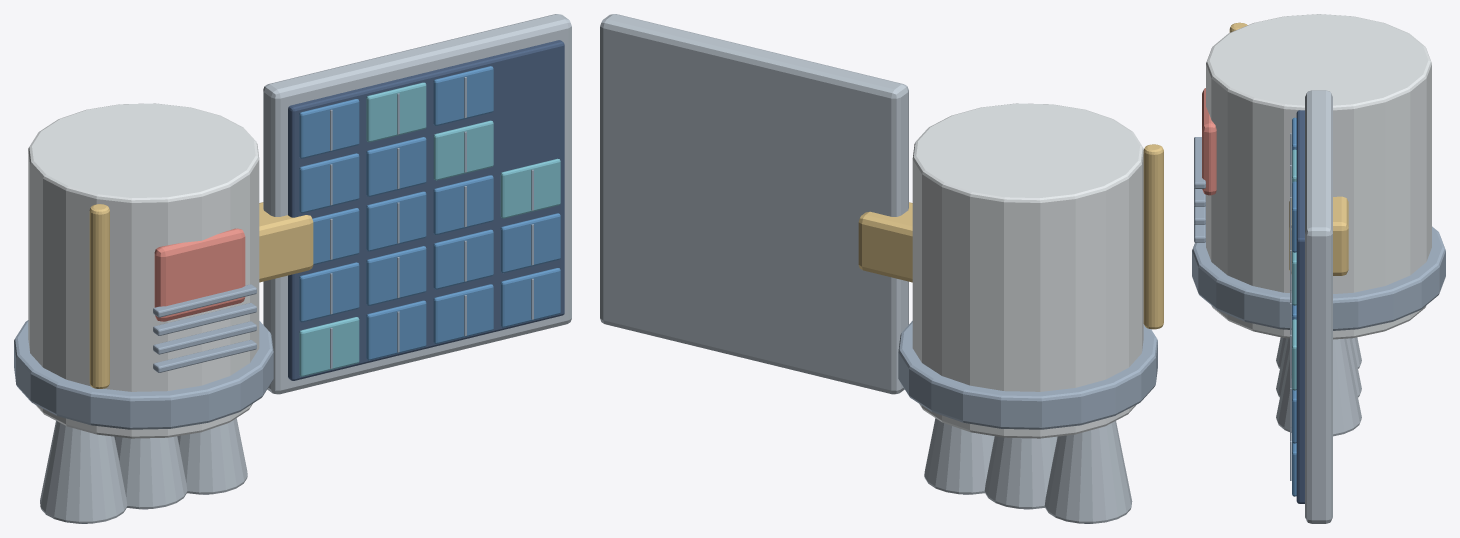
The model's file is DamagedBooster.fbx.
3 renders of one model, left to right at view 1: azimuth 30°, elevation 25°; view 2: azimuth 150°, elevation 25°; view 3: azimuth 270°, elevation 25°, orthographic. The views are drawn at different scales.
Parts seen in each view (by area): view 1: DamagedBooster; view 2: DamagedBooster; view 3: DamagedBooster.
Part boxes in pixels (x1,y1,x2,y2): DamagedBooster: [14, 14, 571, 523]; DamagedBooster: [600, 14, 1163, 523]; DamagedBooster: [1192, 14, 1445, 523].
Size of the model in its own units: 3.04 by 2.04 by 1.28.
